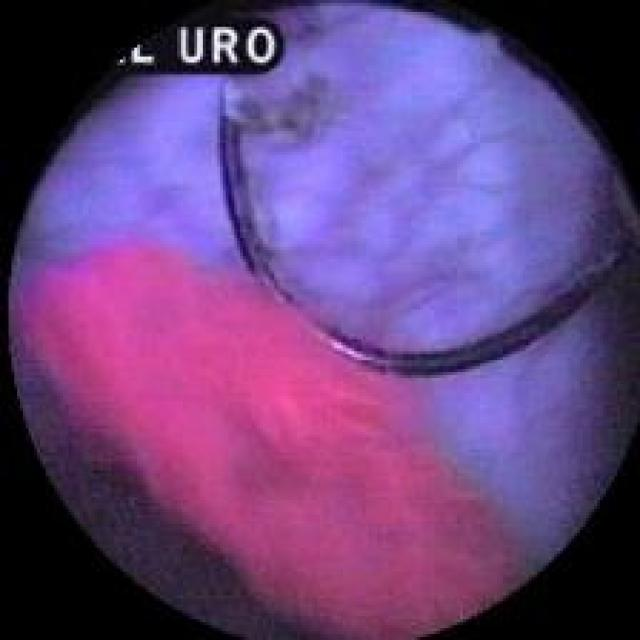color misalignment: (109, 16, 284, 71)
instrument: (211, 74, 629, 376)
